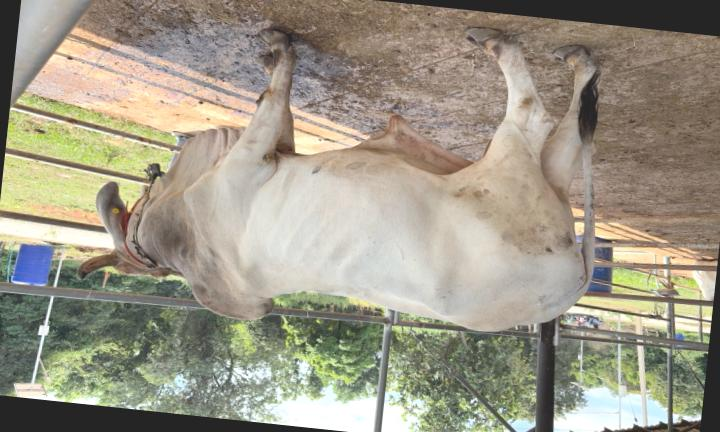Brahman: (78, 28, 601, 331)
